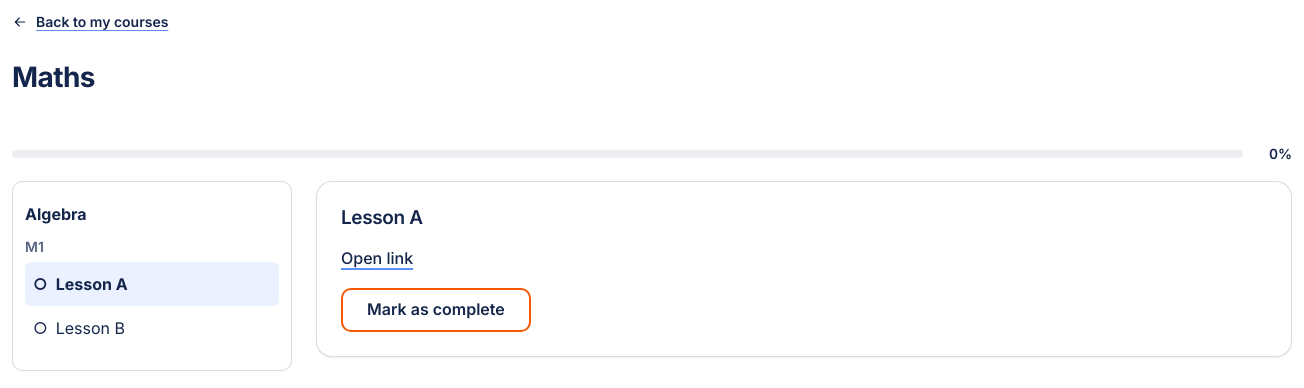
it: player: Mark complete updates the progress bar
Click the button "Mark as complete": coordinates (436, 310) [341,288,531,332]
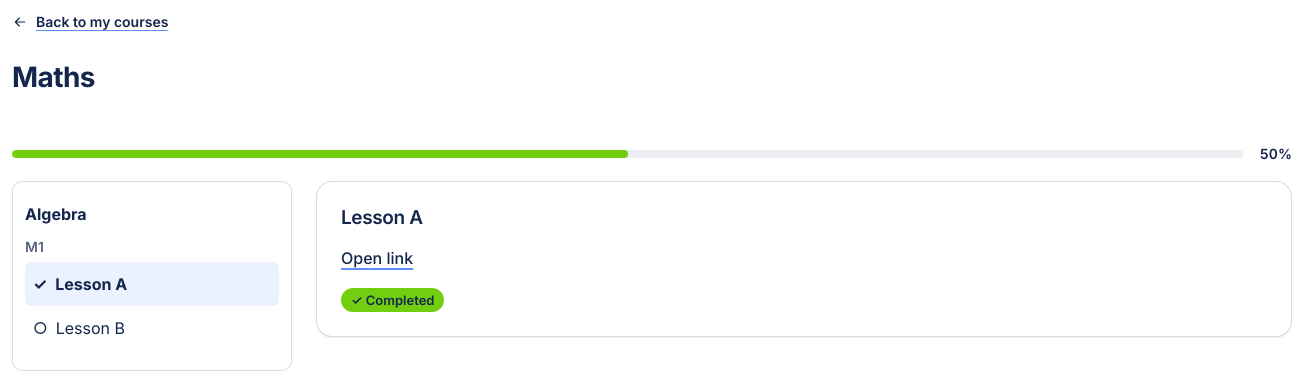
Now the progress indicator has attribute aria-valuenow="50", box [12,150,1243,158]
